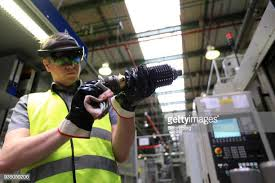hololens: (36, 46, 88, 66)
